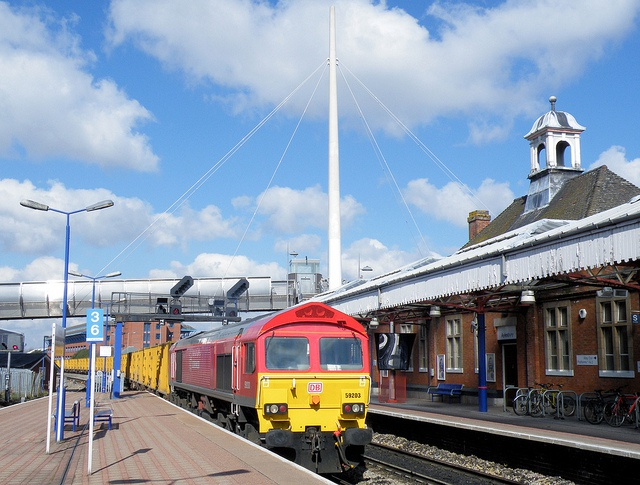non-vehicle: (528, 383, 575, 417), (511, 382, 555, 416), (582, 387, 617, 426), (603, 392, 640, 428)
